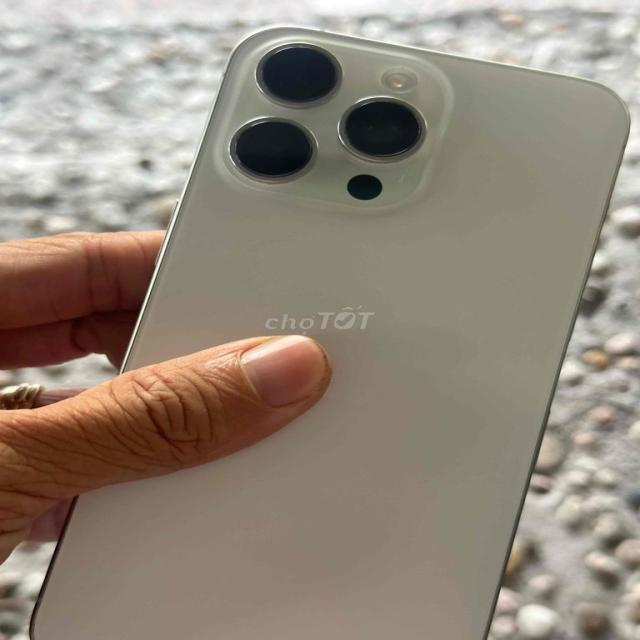gen_15: (27, 18, 622, 640)
